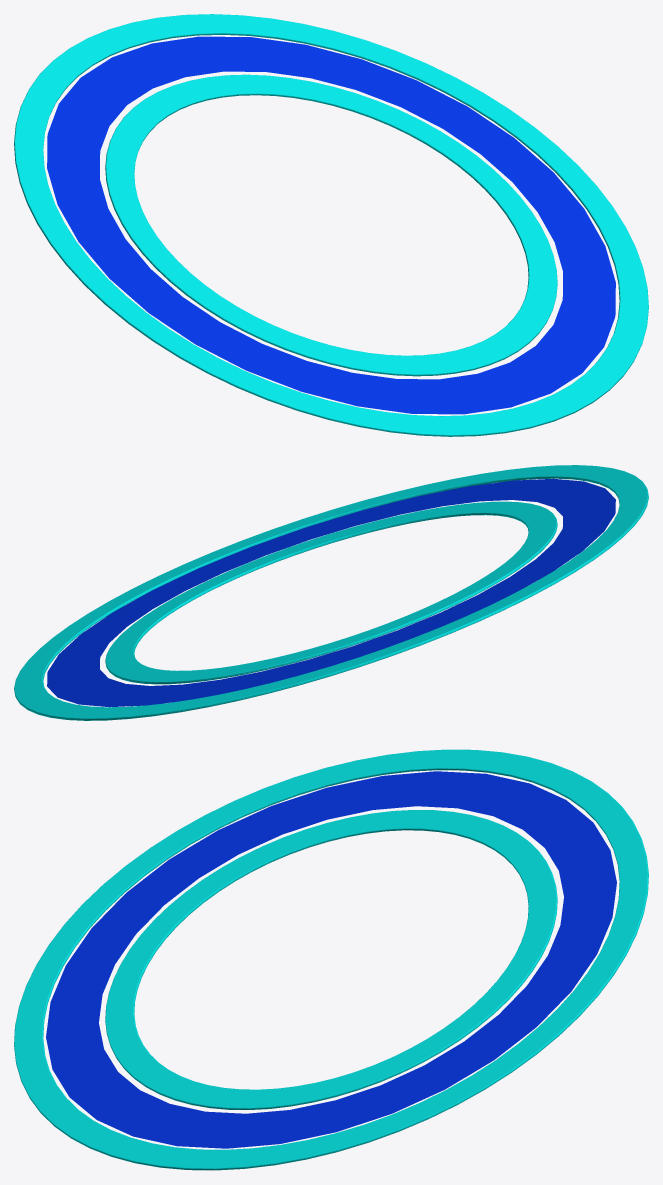
The model's file is planets_test_rings.glb.
The picture shows the model from 3 angles, top to bottom: view 1: azimuth 30°, elevation 25°; view 2: azimuth 210°, elevation 25°; view 3: azimuth 270°, elevation 25°; orthographic projection.
Parts seen in each view (by area): view 1: Circle.002, Circle.001; view 2: Circle.002, Circle.001; view 3: Circle.002, Circle.001.
Part boxes in pixels (x1=…): Circle.002: x1=14, y1=14, x2=648, y2=436; Circle.001: x1=47, y1=36, x2=615, y2=414; Circle.002: x1=14, y1=465, x2=648, y2=720; Circle.001: x1=47, y1=478, x2=615, y2=707; Circle.002: x1=14, y1=749, x2=648, y2=1170; Circle.001: x1=46, y1=771, x2=616, y2=1148.
Bounding box in the file's own units: 4.58 × 1.64 × 4.43.
